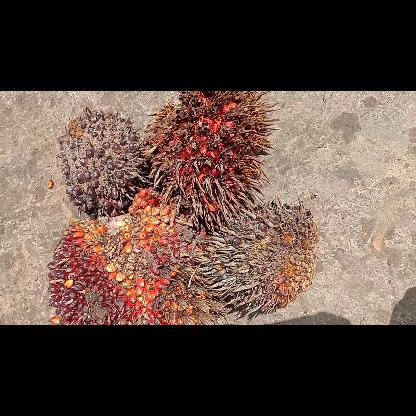Kurang masak: (57, 107, 149, 215)
TBS abnormal: (197, 197, 318, 316)
TBS masak: (45, 188, 211, 324)
Terlalu masak: (143, 90, 281, 222)
